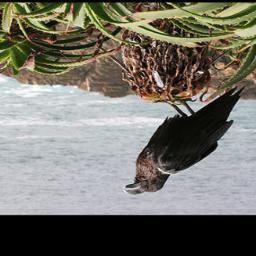Crow: (119, 84, 249, 196)
